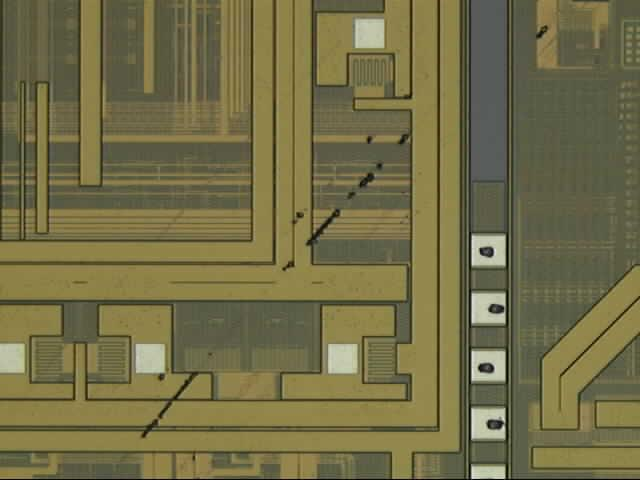SCRATCH: (1, 1, 616, 480)
